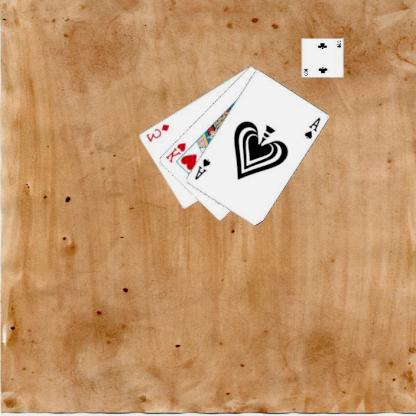3D: (144, 121, 172, 143)
AS: (193, 156, 214, 181), (303, 115, 323, 140)
KH: (164, 140, 189, 164)
